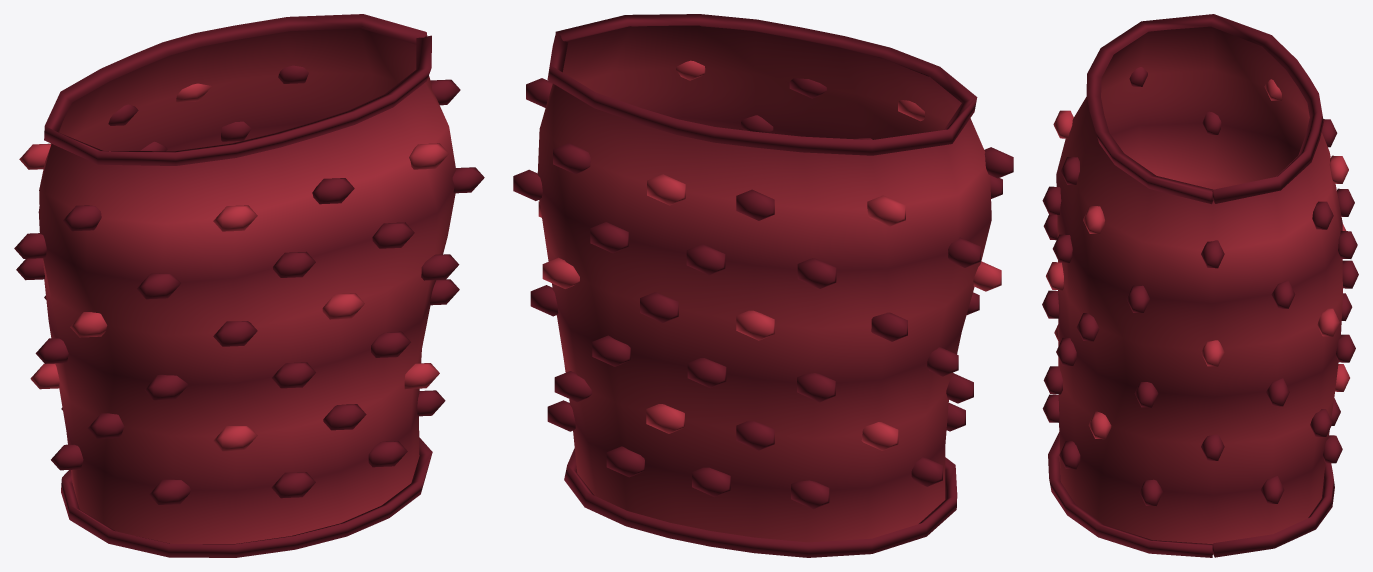
File: crimtane_armor_chest.glb
3 views of the same model, side by side, from view 1: azimuth 30°, elevation 25°; view 2: azimuth 150°, elevation 25°; view 3: azimuth 270°, elevation 25° (orthographic). The views are drawn at different scales.
Parts seen in each view (by area): view 1: crimtane_armor_chest; view 2: crimtane_armor_chest; view 3: crimtane_armor_chest.
Boxes of the visible parts, bbox=[...] form: crimtane_armor_chest: bbox=[14, 14, 484, 557]; crimtane_armor_chest: bbox=[513, 14, 1013, 557]; crimtane_armor_chest: bbox=[1042, 14, 1358, 557].
Bounding box in the file's own units: 0.4437 × 0.3857 × 0.2924.
